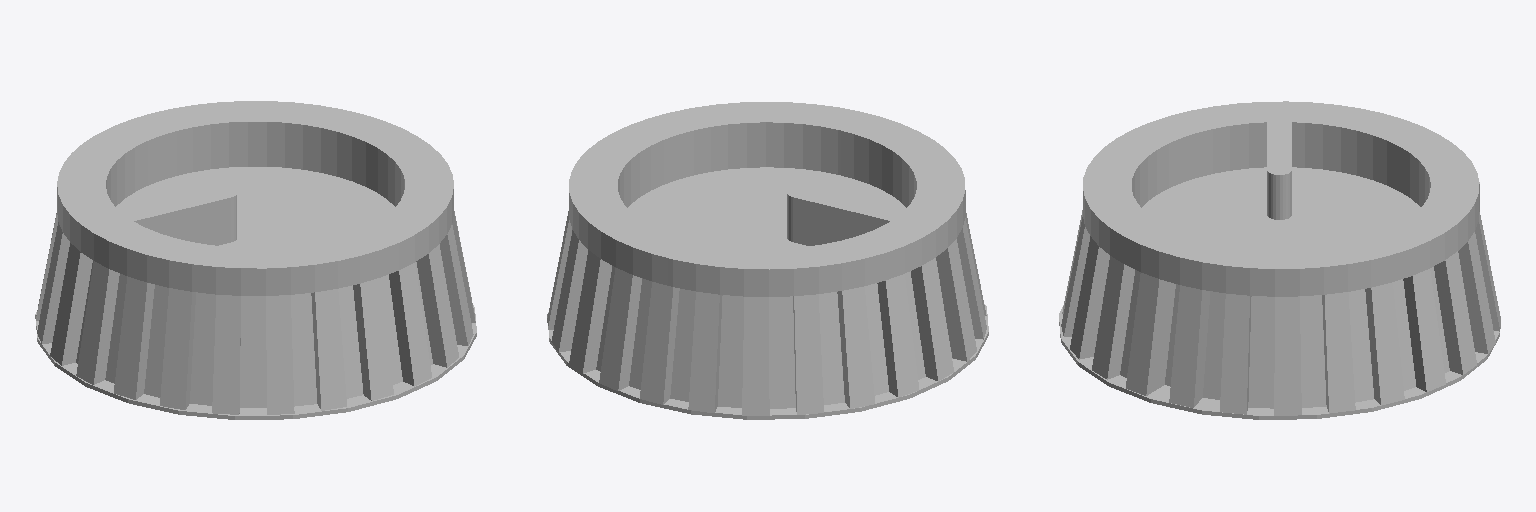
File: Knob.obj
3 renders of one model, left to right at view 1: azimuth 30°, elevation 25°; view 2: azimuth 150°, elevation 25°; view 3: azimuth 270°, elevation 25°, orthographic.
Visible parts, largest first — view 1: Mesh1 Knob1 Model; view 2: Mesh1 Knob1 Model; view 3: Mesh1 Knob1 Model.
Boxes of the visible parts, box(x1,y1,x2,y2) form: Mesh1 Knob1 Model: box(35, 101, 476, 419); Mesh1 Knob1 Model: box(547, 102, 988, 419); Mesh1 Knob1 Model: box(1059, 101, 1500, 419).
Bounding box in the file's own units: 26.69 × 9.44 × 26.74.